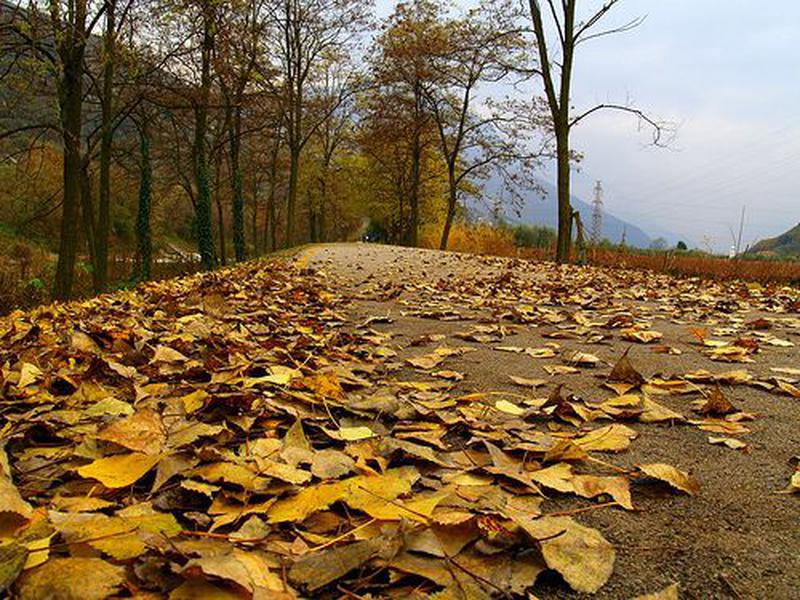leaf: (265, 467, 452, 530), (509, 507, 620, 594), (75, 509, 183, 565), (86, 412, 228, 452), (58, 450, 167, 492), (629, 454, 701, 500), (599, 341, 655, 389)
